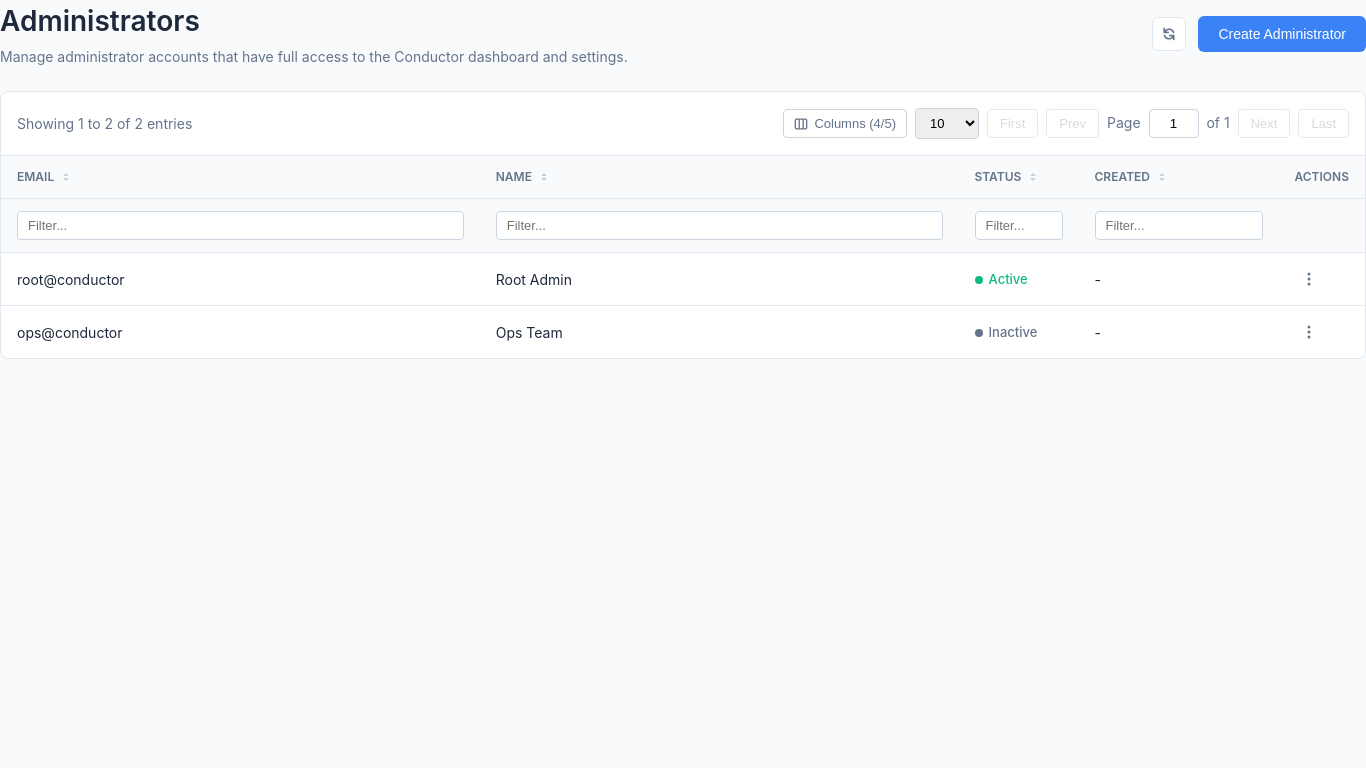
Scenario: Administrators view › creates an administrator with the entered values
Expected: the text "root@conductor" is shown, left=1, top=252, right=480, bottom=306
Click the button "Create Administrator" at (1282, 34), box left=1198, top=16, right=1365, bottom=52
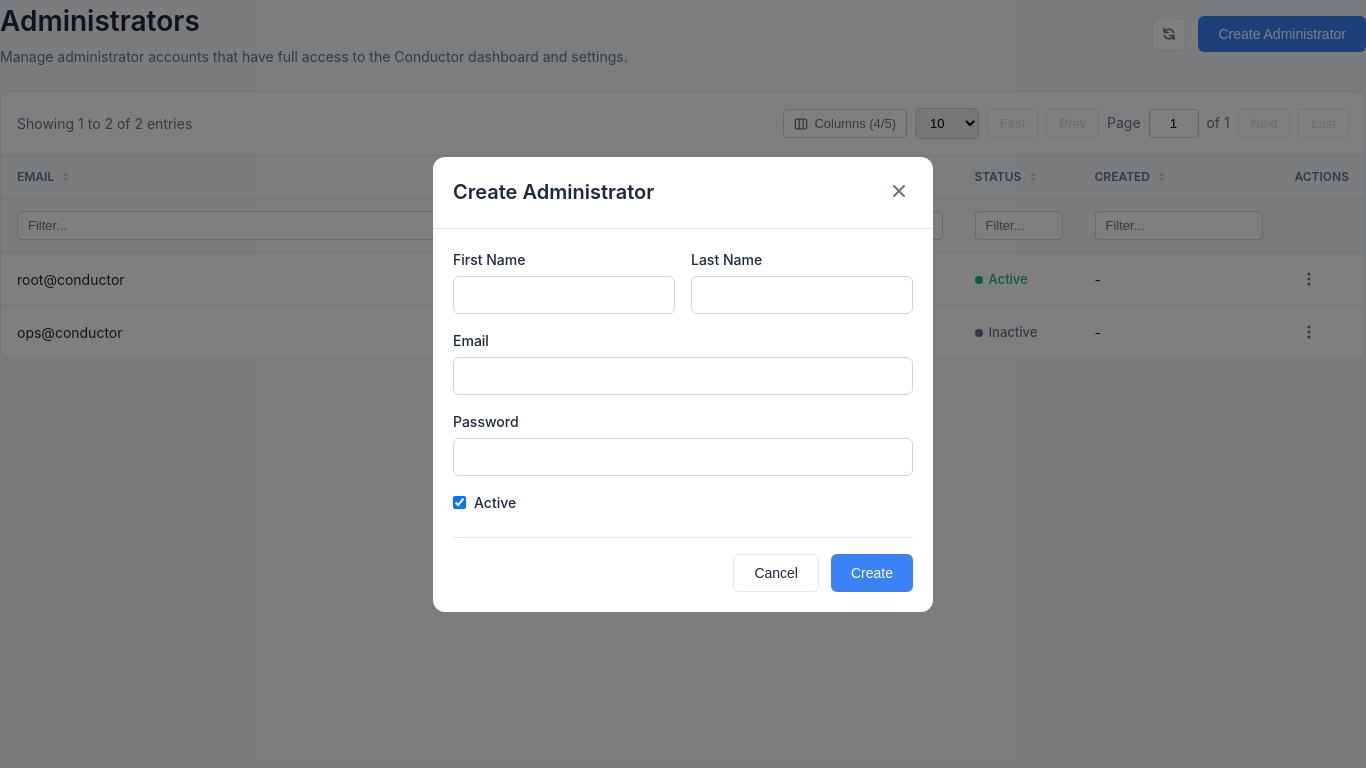
Result: the form is shown at left=453, top=248, right=913, bottom=592
Type "Linus" into the field labelled "First Name" at (564, 294), box left=453, top=276, right=675, bottom=314
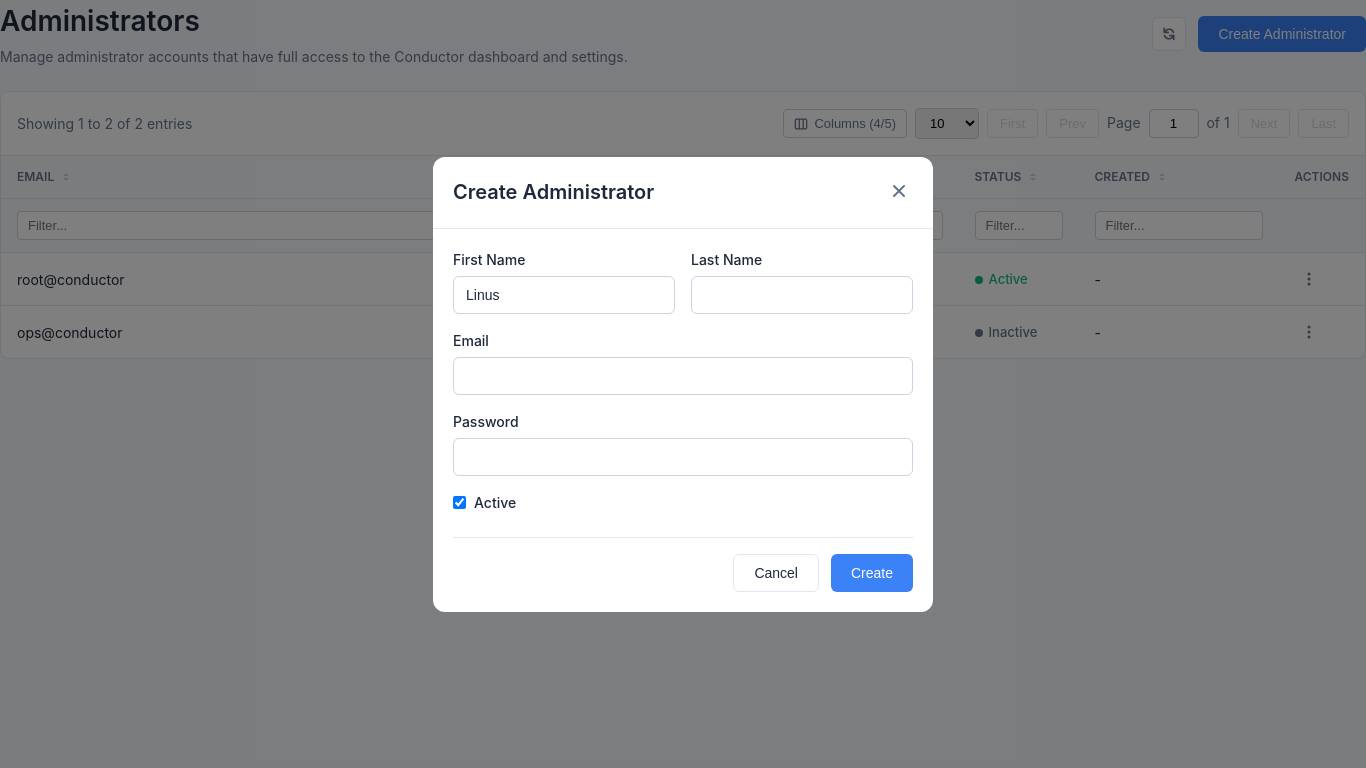
Type "Torvalds" into the field labelled "Last Name" at (802, 294), box left=691, top=276, right=913, bottom=314
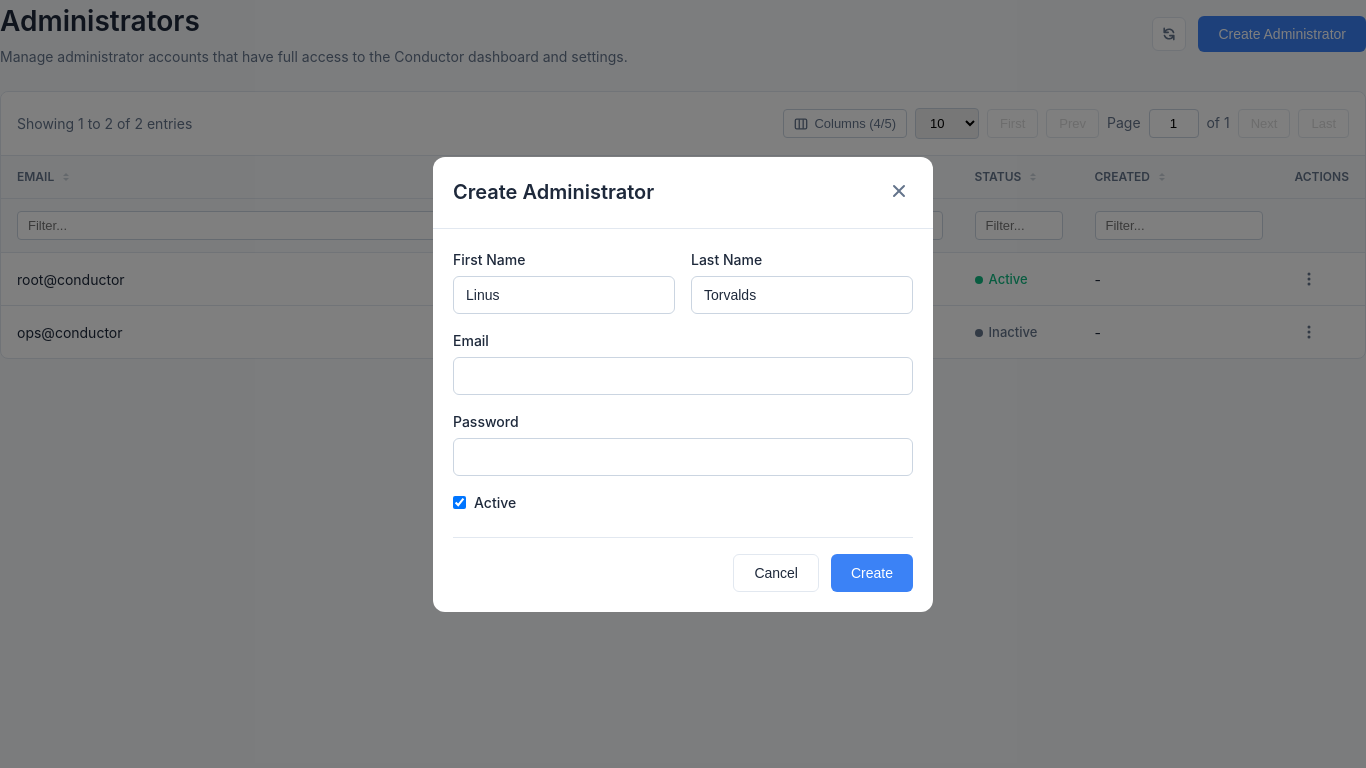
Type "linus@conductor" into the field labelled "Email" at (683, 376), box left=453, top=356, right=913, bottom=394
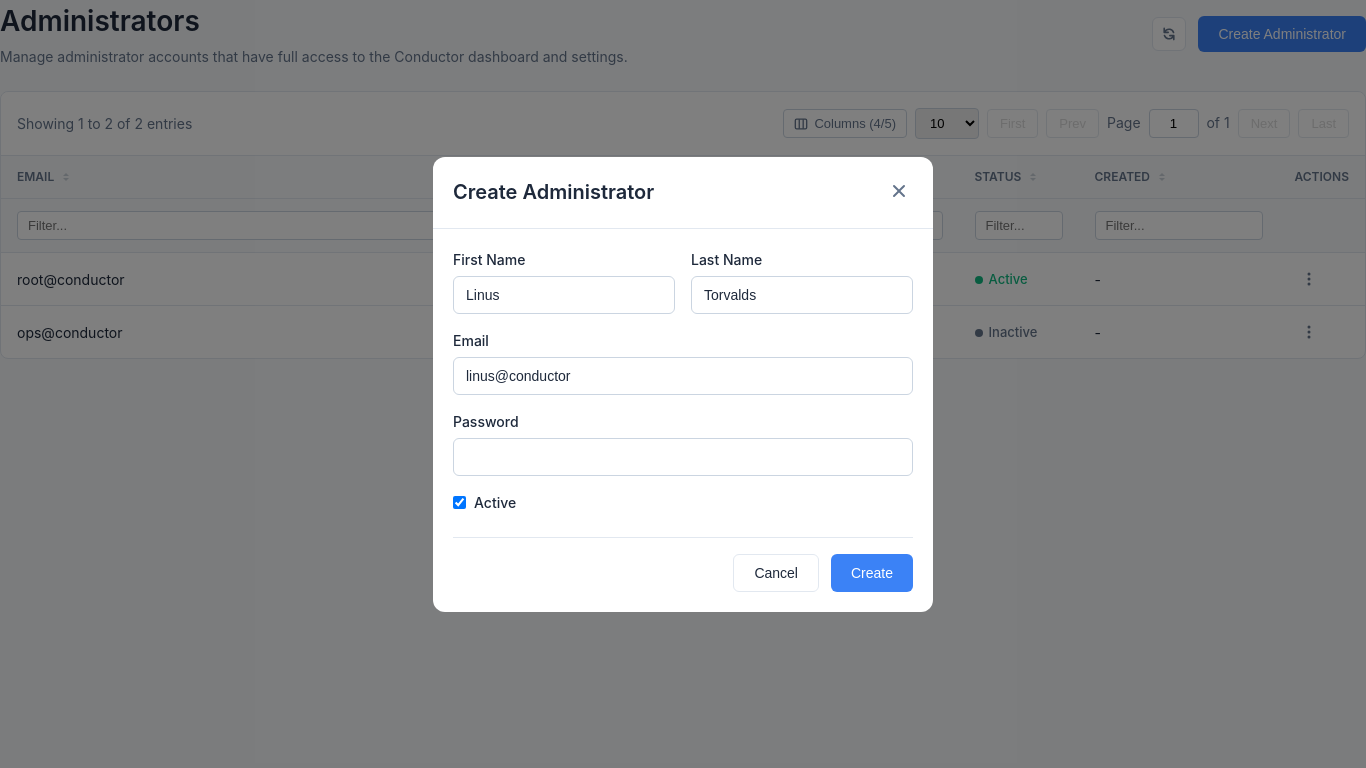
Type "hunter22" into the password field labelled "Password" at (683, 456), box left=453, top=438, right=913, bottom=476
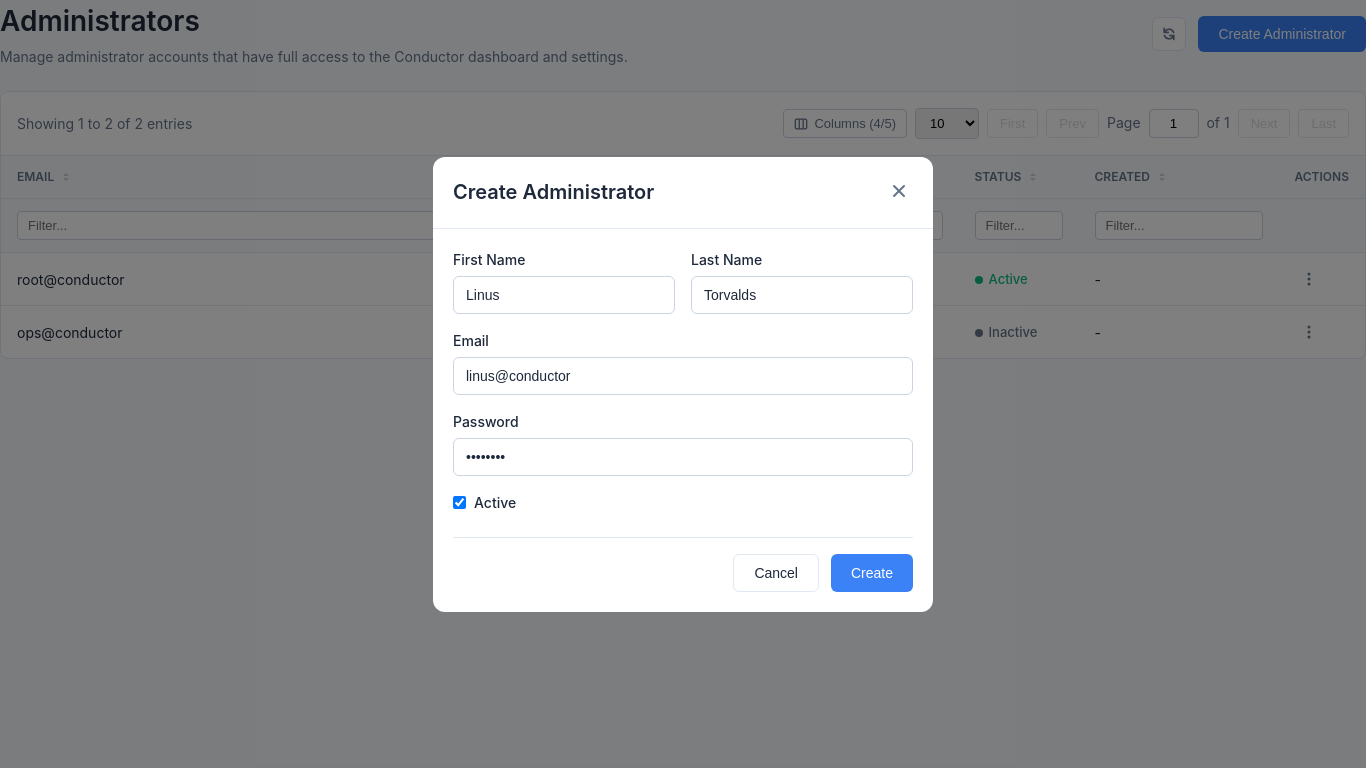
Click the button "Create" at (872, 572), box left=831, top=554, right=913, bottom=592
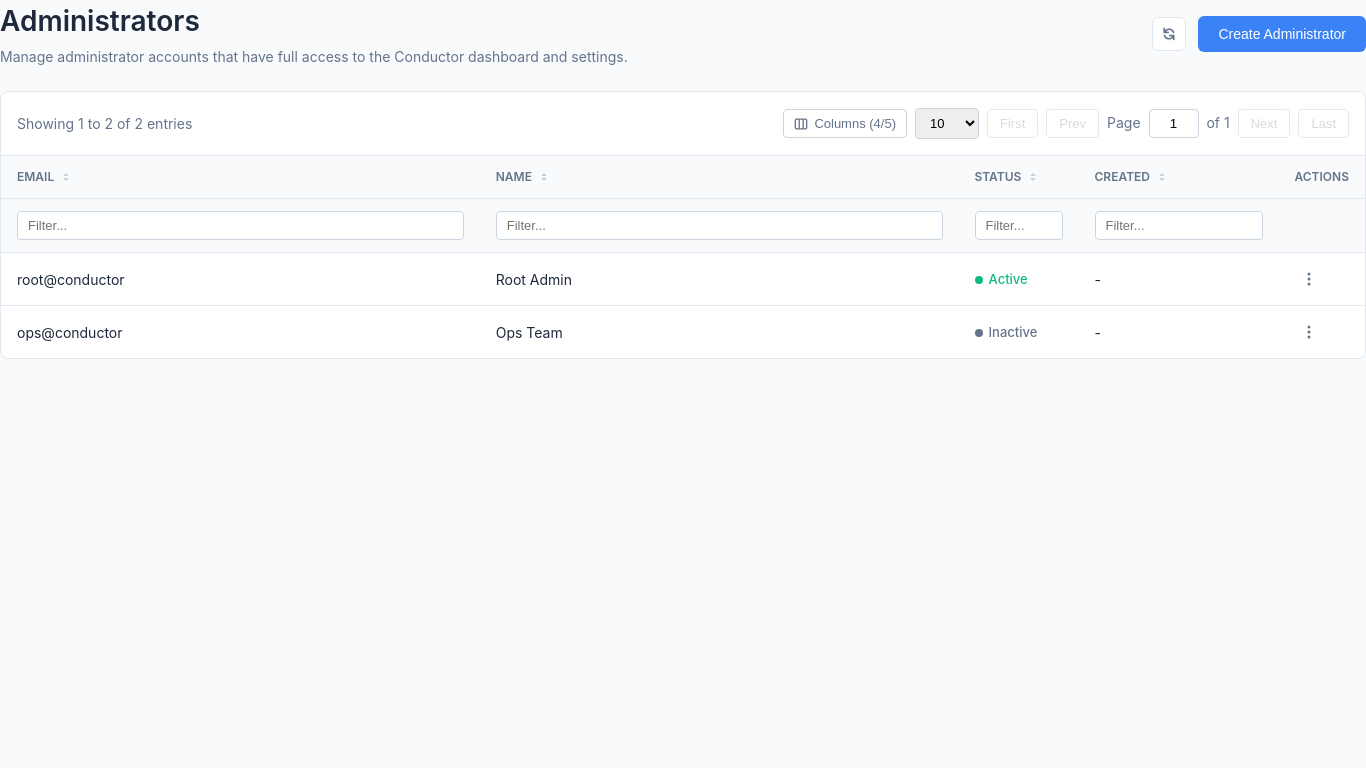
Result: the form is gone
